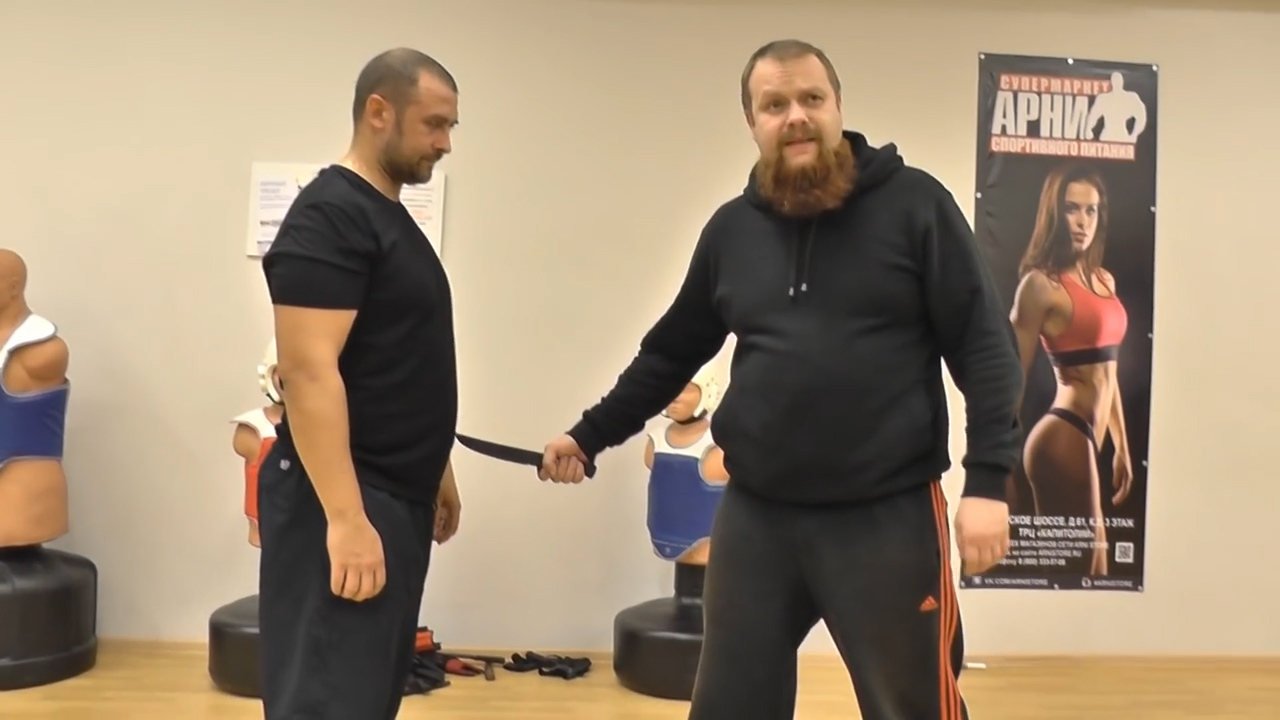knife: (454, 425, 602, 489)
